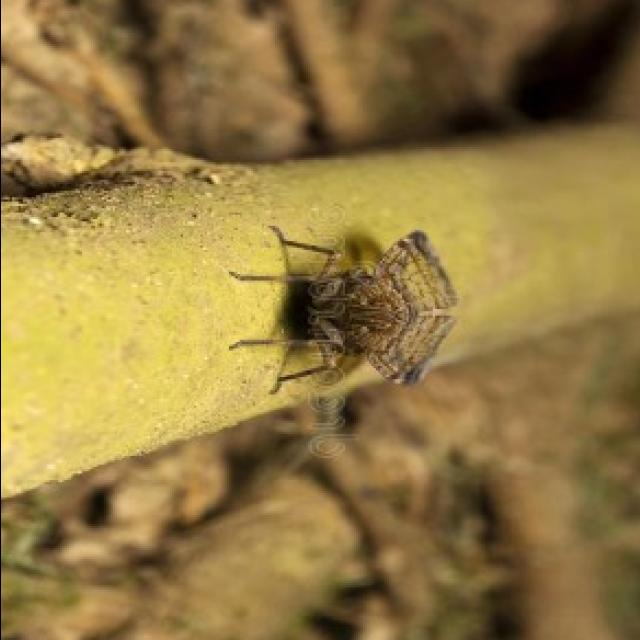brown plant hopper: (235, 232, 458, 386)
